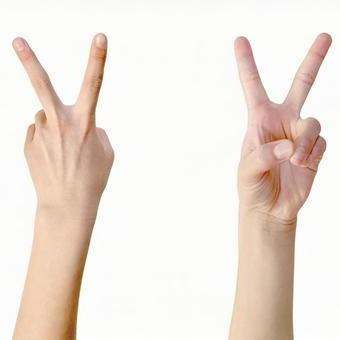tyoki: (232, 32, 333, 210), (11, 32, 115, 198)
